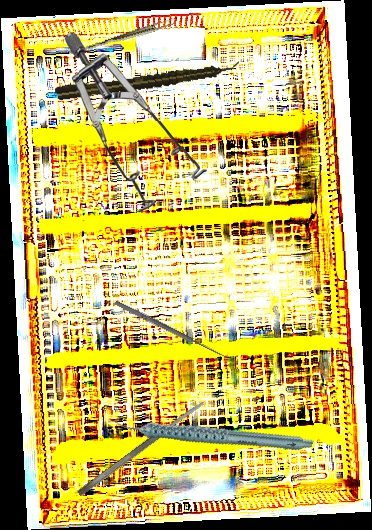Handpiece: (112, 375, 315, 490), (54, 59, 241, 103)
Hook Surgical: (113, 295, 231, 361)
Spatula Surgical: (76, 399, 206, 498)
Speculum: (62, 28, 211, 214)
Tissue Forceps: (68, 16, 176, 59)
